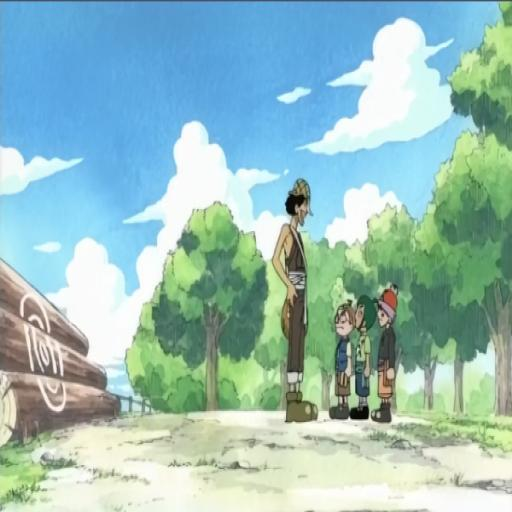Usopp: (268, 161, 318, 436)
